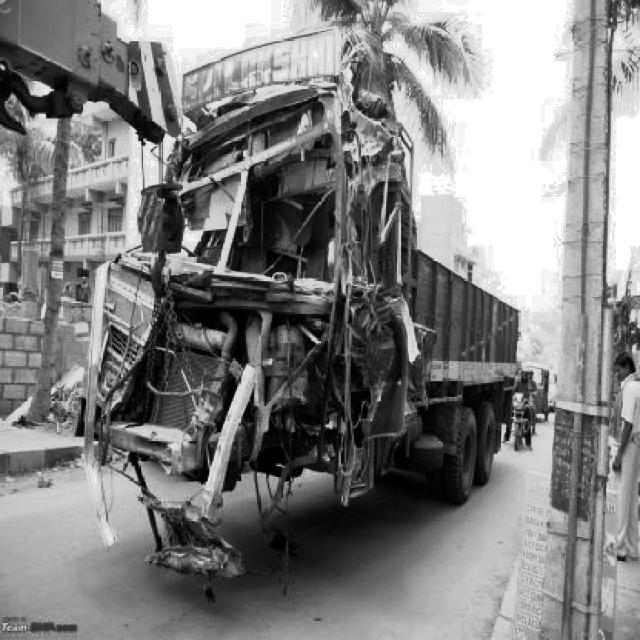HCV: (98, 128, 510, 527)
